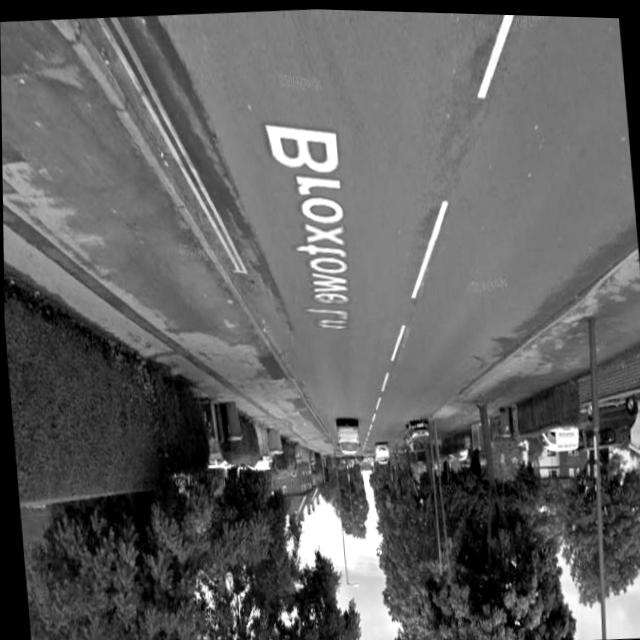cleat: (48, 7, 640, 414)
